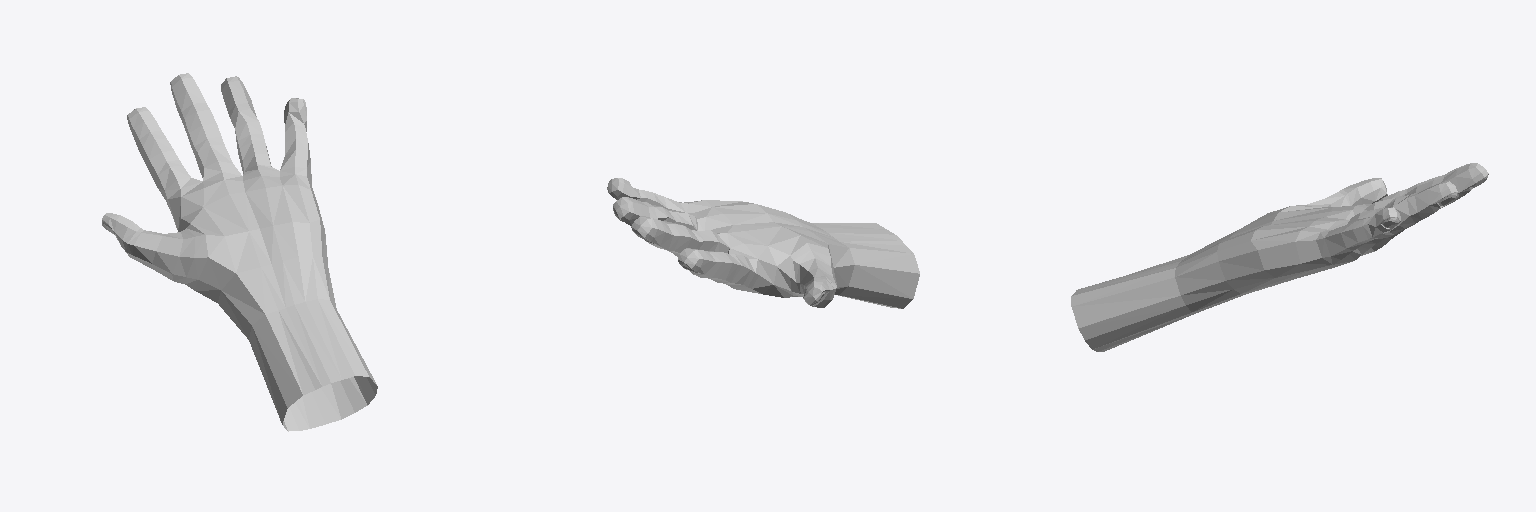
The model's file is handAnimated4_000091.obj.
The picture shows the model from 3 angles: view 1: azimuth 30°, elevation 25°; view 2: azimuth 150°, elevation 25°; view 3: azimuth 270°, elevation 25°; orthographic projection.
Visible parts, largest first — view 1: Cube.000_Cube.017_Detached_Detached; view 2: Cube.000_Cube.017_Detached_Detached; view 3: Cube.000_Cube.017_Detached_Detached.
Boxes of the visible parts, x1,y1,x2,y2 form: Cube.000_Cube.017_Detached_Detached: [102, 73, 377, 431]; Cube.000_Cube.017_Detached_Detached: [607, 178, 919, 308]; Cube.000_Cube.017_Detached_Detached: [1071, 163, 1488, 351].
Size of the model in its own units: 0.7306 by 0.694 by 1.26.